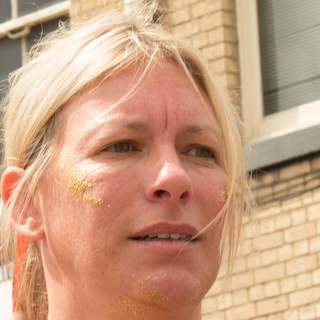eye: (172, 140, 222, 167), (98, 135, 143, 164)
